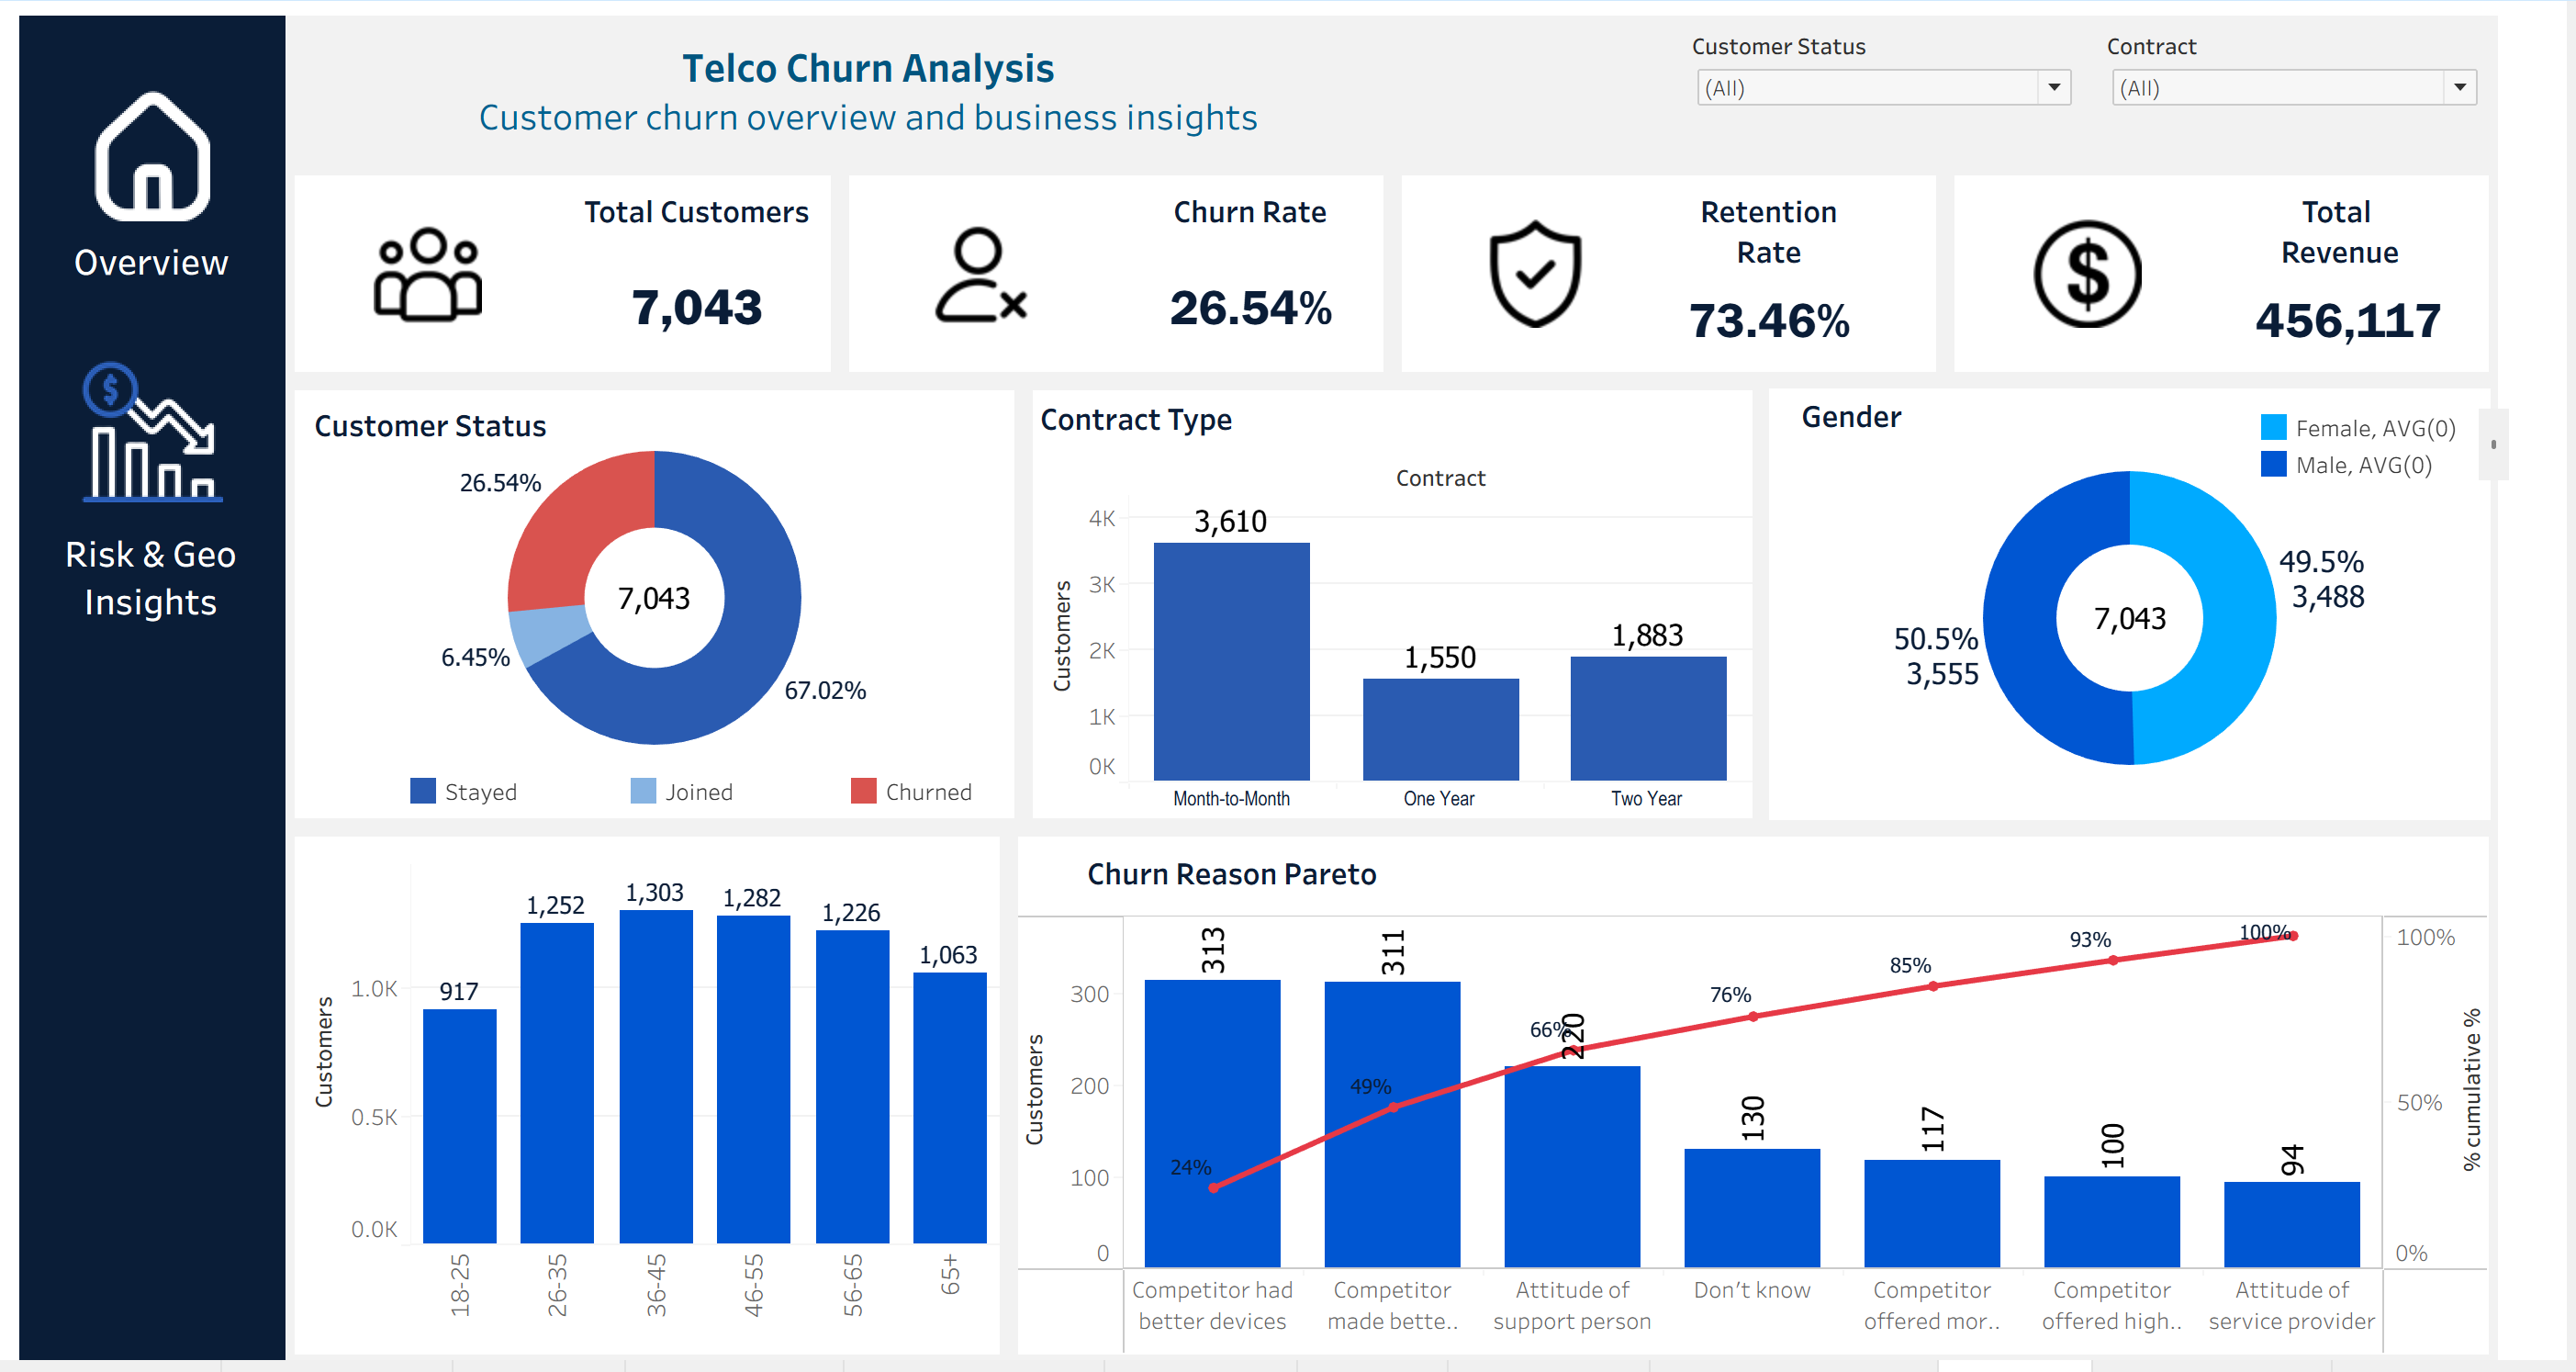

What the dashboard file says about the page in this screenshot:
{"tool":"tableau","page":{"name":"Overview","canvas":[1366,750],"ordinal":0},"visuals":[{"type":"dashboard-object","box":[8,8,145,153]},{"type":"text","box":[153,8,635.1,82]},{"type":"blank","box":[788.1,8,123,82]},{"type":"filter","title":"Customer Status Distribution","param":"[federated.15cv9ty1696nmi18hc9wt0d1f6dx].[none:customer_status:nk]","box":[911.1,8,226.1,82]},{"type":"filter","title":"Customer Status Distribution","param":"[federated.15cv9ty1696nmi18hc9wt0d1f6dx].[none:contract:nk]","box":[1137.2,8,220.8,82]},{"type":"image","param":"Image/customer.png","box":[158,95,146,107]},{"type":"worksheet","title":"KPI - Total Customers","mark":"Text","box":[304,95,146,107]},{"type":"image","param":"Image/remove-user.png","box":[460,95,146,107]},{"type":"worksheet","title":"KPI - Churn Rate","mark":"Automatic","box":[606,95,145,107]},{"type":"image","param":"Image/security.png","box":[761,95,146,107]},{"type":"worksheet","title":"KPI - Retention Rate","mark":"Automatic","box":[907,95,145,107]},{"type":"image","param":"Image/dollar-coin-circle-with-symbol.png","box":[1062,95,146,107]},{"type":"worksheet","title":"KPI-Total Revenue","mark":"Automatic","box":[1208,95,145,107]},{"type":"text","box":[30,126,100,30]},{"type":"dashboard-object","box":[8,161,145,146]},{"type":"legend","title":"Gender Donut Chart","param":"[federated.15cv9ty1696nmi18hc9wt0d1f6dx].[none:gender:nk]\n[federated.15cv9ty1696","box":[1226,204,140,57]},{"type":"worksheet","title":"Churn Rate by Contract Typee","mark":"Automatic","rows":["customer_id"],"cols":["contract"],"box":[555,207,402,243]},{"type":"worksheet","title":"Gender Donut Chart","mark":"Pie","rows":["Calculation_332984964327829535","Calculation_332984964327866401"],"box":[961,211,393,235]},{"type":"text","box":[976,211,100,30]},{"type":"worksheet","title":"Customer Status Distribution","mark":"Pie","cols":["Calculation_332984964287819795","Calculation_332984964287881237"],"box":[158,212,392,211]},{"type":"text","box":[166,219,140,24]},{"type":"blank","box":[8,307,145,145]},{"type":"legend","title":"Customer Status Distribution","param":"[federated.15cv9ty1696nmi18hc9wt0d1f6dx].[none:customer_status:nk]","box":[218,420,396,40]},{"type":"worksheet","title":"Age Distribution","mark":"Automatic","rows":["customer_id"],"box":[153,450,394,292]},{"type":"worksheet","title":"churn reason pareto","mark":"Automatic","rows":["customer_id"],"cols":["churn_reason"],"box":[547,450,810.9,292]},{"type":"blank","box":[8,452,145,145]},{"type":"text","box":[587,462,220,25]},{"type":"blank","box":[8,597,145,145]}]}

Visuals, with their boxes on the page's 1366x750 design canvas (x1, y1, x2, y2). These are canvas units, not pixel positions in the 2576x1372 screenshot, which may show the page scaled, cropped or inside an application window:
dashboard-object: x1=8 y1=8 x2=153 y2=161
text: x1=153 y1=8 x2=788 y2=90
blank: x1=788 y1=8 x2=911 y2=90
"Customer Status Distribution" filter: x1=911 y1=8 x2=1137 y2=90
"Customer Status Distribution" filter: x1=1137 y1=8 x2=1358 y2=90
image: x1=158 y1=95 x2=304 y2=202
"KPI - Total Customers" worksheet (Text marks): x1=304 y1=95 x2=450 y2=202
image: x1=460 y1=95 x2=606 y2=202
"KPI - Churn Rate" worksheet: x1=606 y1=95 x2=751 y2=202
image: x1=761 y1=95 x2=907 y2=202
"KPI - Retention Rate" worksheet: x1=907 y1=95 x2=1052 y2=202
image: x1=1062 y1=95 x2=1208 y2=202
"KPI-Total Revenue" worksheet: x1=1208 y1=95 x2=1353 y2=202
text: x1=30 y1=126 x2=130 y2=156
dashboard-object: x1=8 y1=161 x2=153 y2=307
"Gender Donut Chart" legend: x1=1226 y1=204 x2=1366 y2=261
"Churn Rate by Contract Typee" worksheet: x1=555 y1=207 x2=957 y2=450
"Gender Donut Chart" worksheet (Pie marks): x1=961 y1=211 x2=1354 y2=446
text: x1=976 y1=211 x2=1076 y2=241
"Customer Status Distribution" worksheet (Pie marks): x1=158 y1=212 x2=550 y2=423
text: x1=166 y1=219 x2=306 y2=243
blank: x1=8 y1=307 x2=153 y2=452
"Customer Status Distribution" legend: x1=218 y1=420 x2=614 y2=460
"Age Distribution" worksheet: x1=153 y1=450 x2=547 y2=742
"churn reason pareto" worksheet: x1=547 y1=450 x2=1358 y2=742
blank: x1=8 y1=452 x2=153 y2=597
text: x1=587 y1=462 x2=807 y2=487
blank: x1=8 y1=597 x2=153 y2=742
